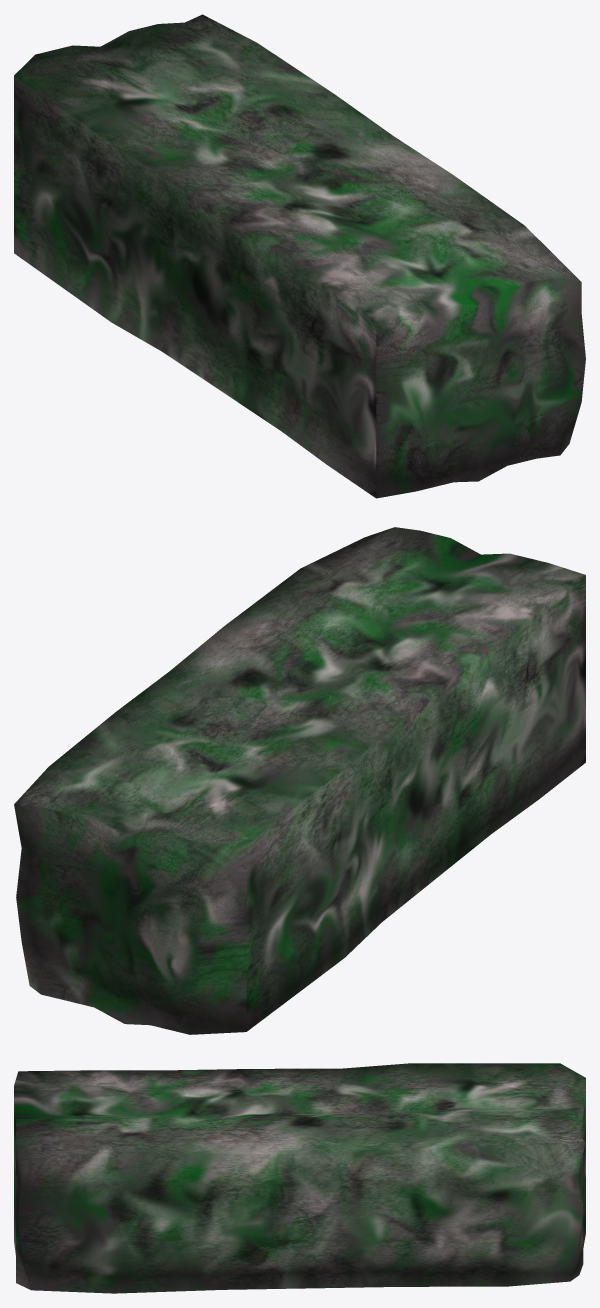
Rendered from CaveStone4 (1).fbx.
The picture shows the model from 3 angles, top to bottom: view 1: azimuth 30°, elevation 25°; view 2: azimuth 150°, elevation 25°; view 3: azimuth 270°, elevation 25°; orthographic projection. The views are drawn at different scales.
Parts seen in each view (by area): view 1: CaveStone4; view 2: CaveStone4; view 3: CaveStone4.
Boxes of the visible parts, x1=… form: CaveStone4: x1=14, y1=14, x2=585, y2=498; CaveStone4: x1=14, y1=527, x2=585, y2=1034; CaveStone4: x1=14, y1=1063, x2=585, y2=1293.
Bounding box in the file's own units: 744 × 565 × 1970.
1 material, 1 textured.
